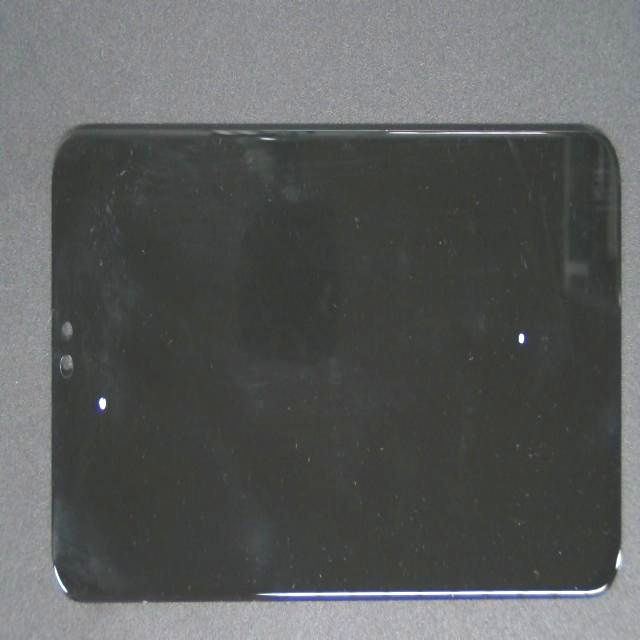stain: (279, 138, 640, 470), (57, 173, 149, 570)
